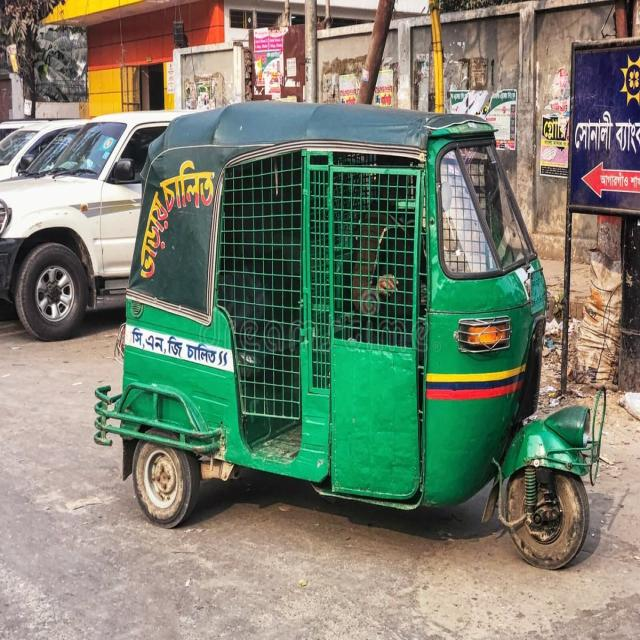CNG: (88, 99, 628, 588)
Car: (1, 94, 256, 335)
